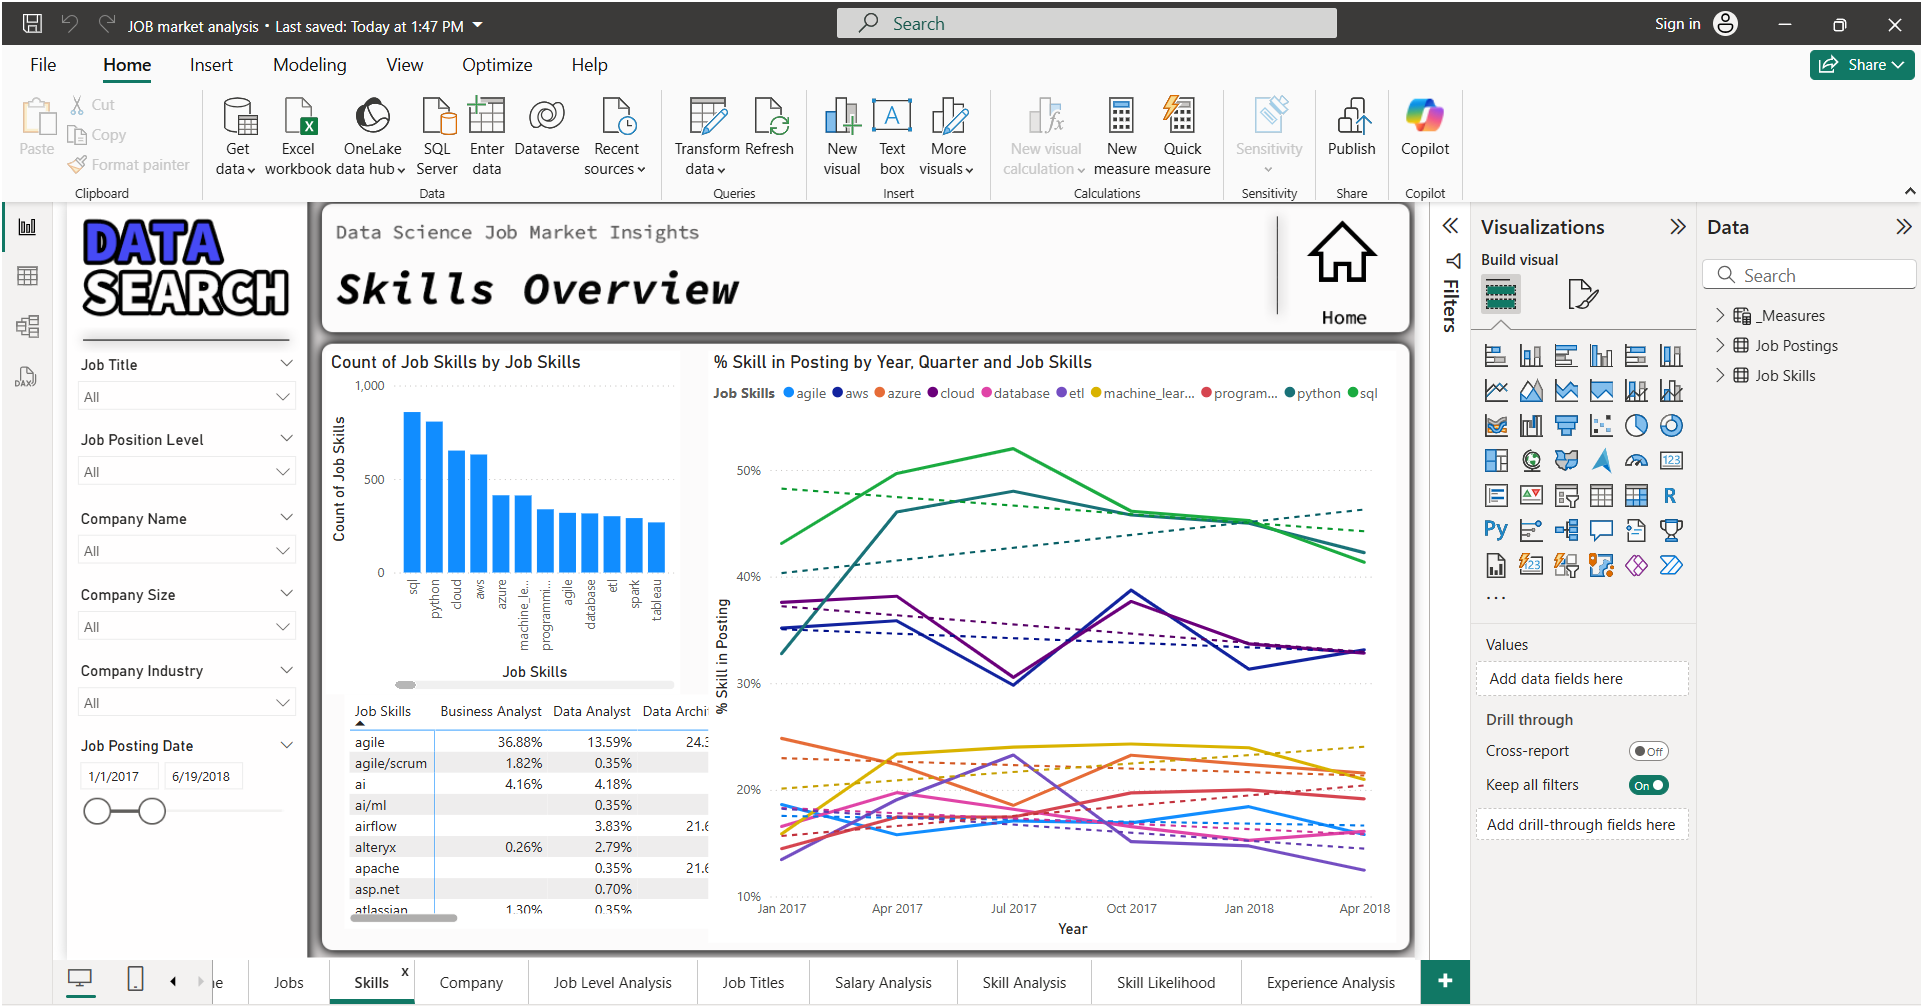

Layout of this report page (visuals, bound fields, positions):
{"tool":"powerbi","page":{"name":"Skill Likelihood","canvas":[1280,720],"ordinal":8},"visuals":[{"type":"pivotTable","fields":{"Rows":["Job Skills.Job Skills"],"Values":["_Measures.% Skill in Posting"],"Columns":["Job Postings.Job Title"]},"box":[828.2,0,451.8,719.8],"z":0},{"type":"lineChart","fields":{"Category":["Job Postings.Job Posting Date.Variation.Date Hierarchy.Year","Job Postings.Job Posting Date.Variation.Date Hierarchy.Quarter","Job Postings.Job Posting Date.Variation.Date Hierarchy.Month","Job Postings.Job Posting Date.Variation.Date Hierarchy.Day"],"Y":["_Measures.% Skill in Posting"],"Series":["Job Skills.Job Skills"]},"box":[0,0,820.2,559.2],"z":1000},{"type":"slicer","fields":{"Values":["Job Postings.Job Title"]},"box":[0,559.2,417.6,160.6],"z":2000},{"type":"slicer","fields":{"Values":["Job Skills.Job Skills"]},"box":[418,559,402,161],"z":3000}]}

Visuals, with their boxes on the page's 1280x720 design canvas (x1, y1, x2, y2). These are canvas units, not pixel positions in the 1923x1008 screenshot, which may show the page scaled, cropped or inside an application window:
pivotTable - Job Skills.Job Skills x _Measures.% Skill in Posting: 828 0 1280 720
lineChart - Job Postings.Job Posting Date.Variation.Date Hierarchy.Year x Job Postings.Job Posting Date.Variation.Date Hierarchy.Quarter: 0 0 820 559
slicer - Job Postings.Job Title: 0 559 418 720
slicer - Job Skills.Job Skills: 418 559 820 720
